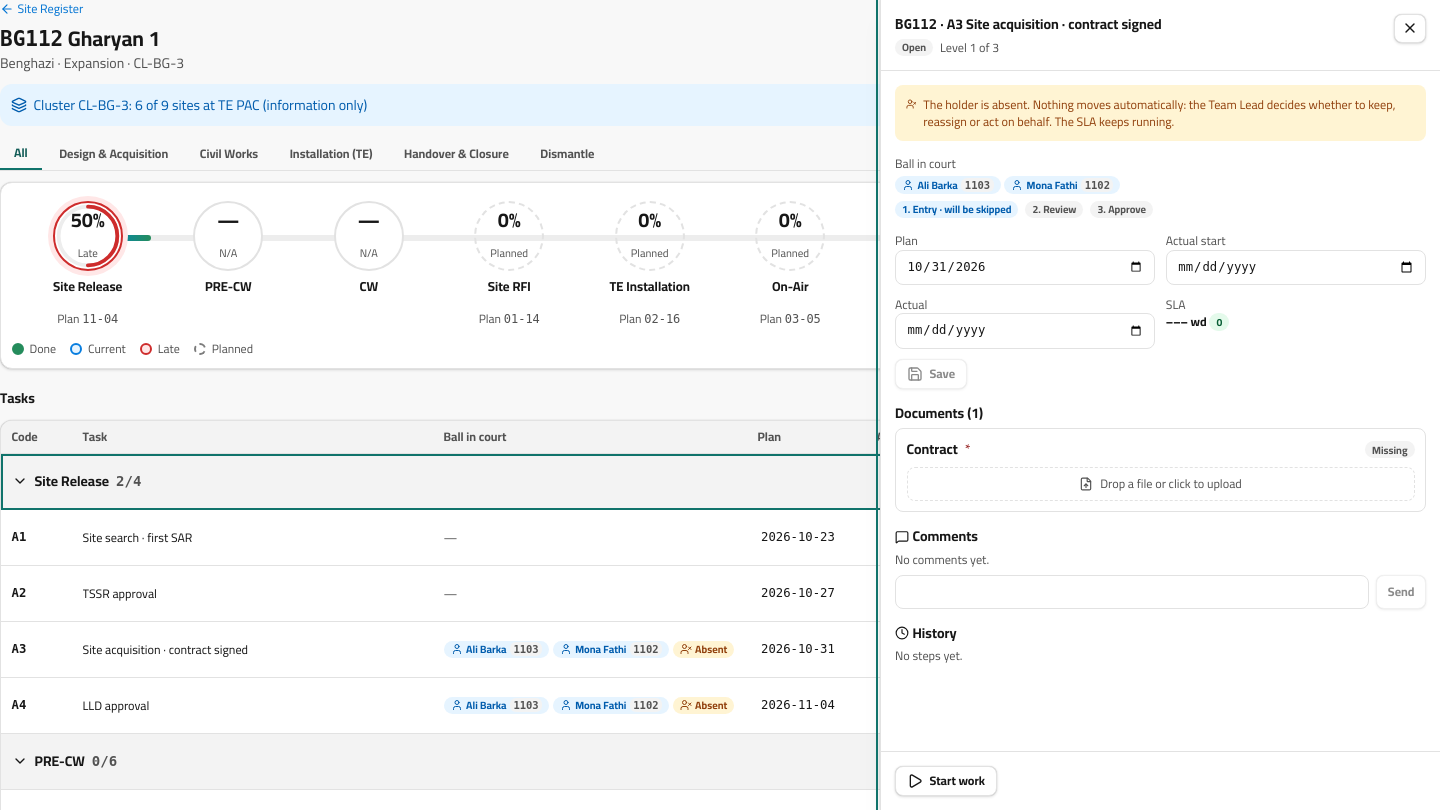
Task actions on the real endpoints › starts an open task (POST /start)
Step 1. Click the button with test id "drawer-start" → [946, 781], box left=895, top=766, right=997, bottom=796
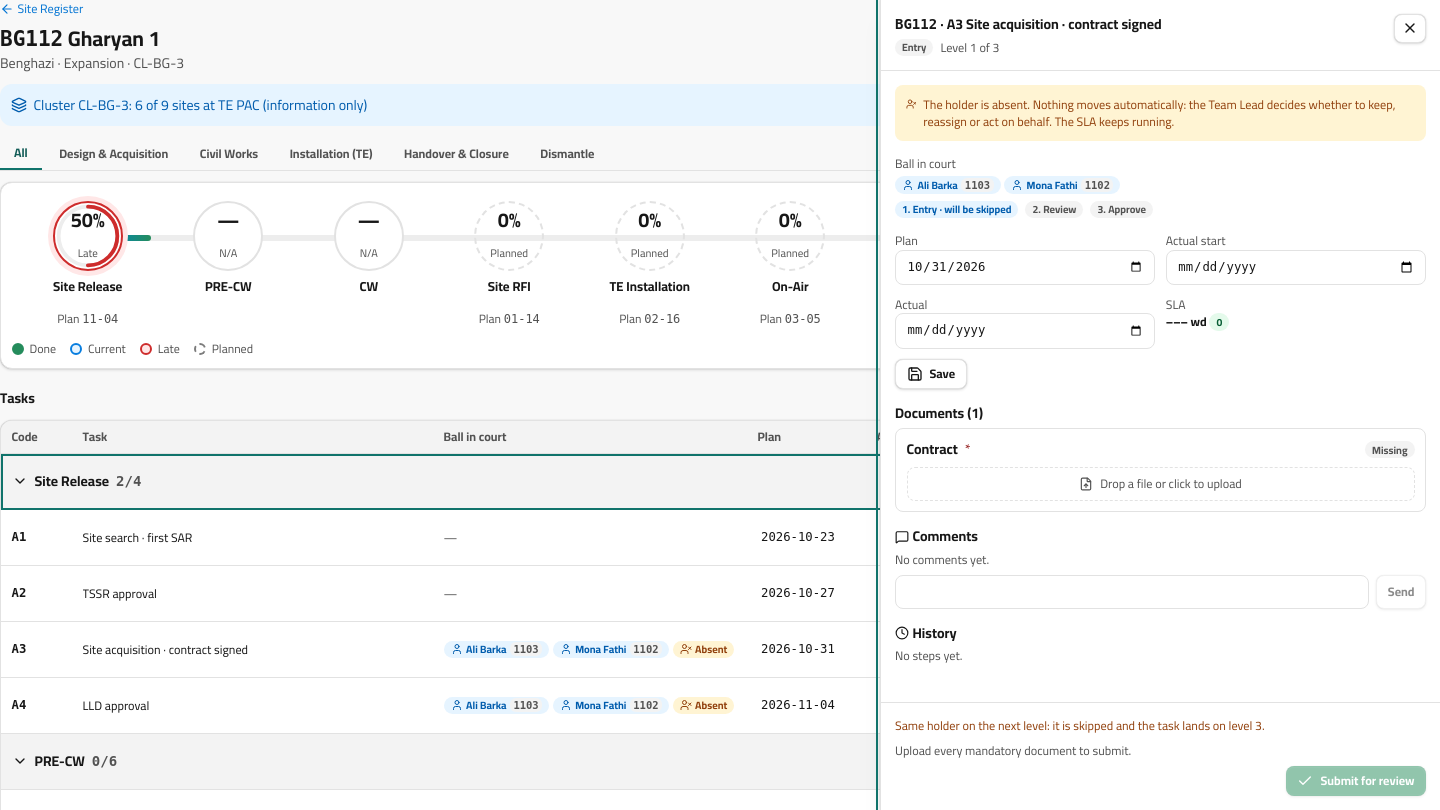
Expected: the text with test id "drawer-state" reads "Entry", left=902, top=37, right=926, bottom=57
